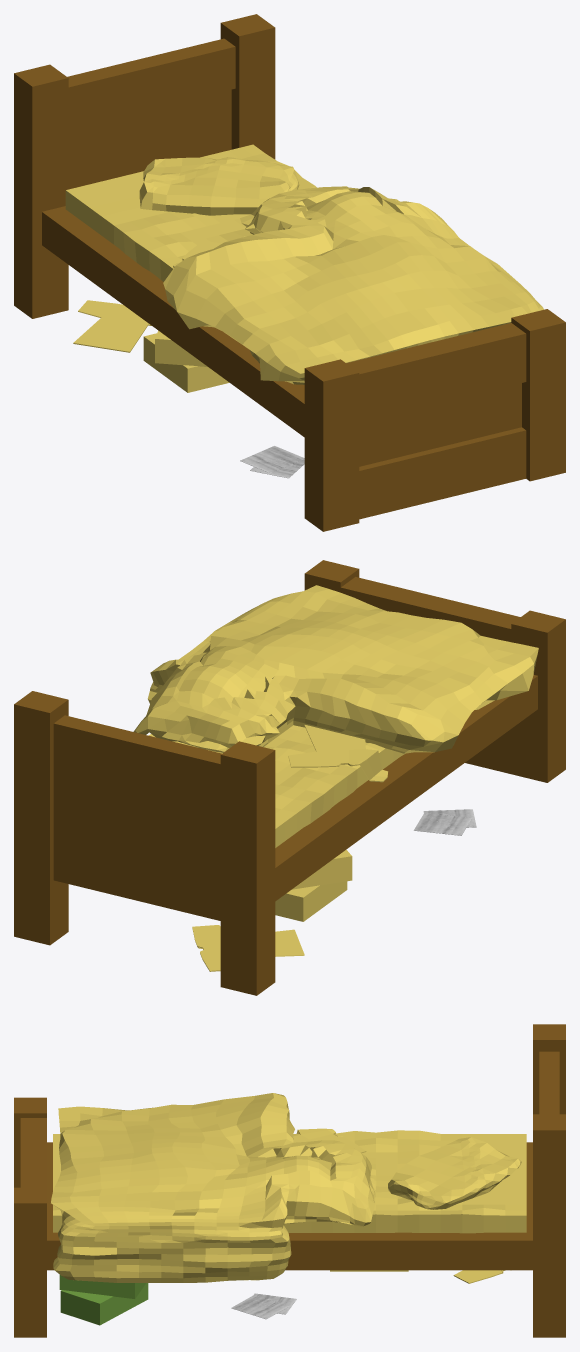
The model's file is Bed_Low_Poly.glb.
3 renders of one model, top to bottom at view 1: azimuth 30°, elevation 25°; view 2: azimuth 150°, elevation 25°; view 3: azimuth 270°, elevation 25°, orthographic. The views are drawn at different scales.
Parts seen in each view (by area): view 1: unnamed (×10); view 2: unnamed (×10); view 3: unnamed (×11).
Boxes of the visible parts, x1,y1,x2,y2 form: unnamed (×10): [14, 14, 565, 531]; unnamed (×10): [14, 560, 565, 995]; unnamed (×11): [14, 1024, 565, 1337].
Bounding box in the file's own units: 1.35 × 1.03 × 2.47.
Materials: 4 (1 with a texture image).
